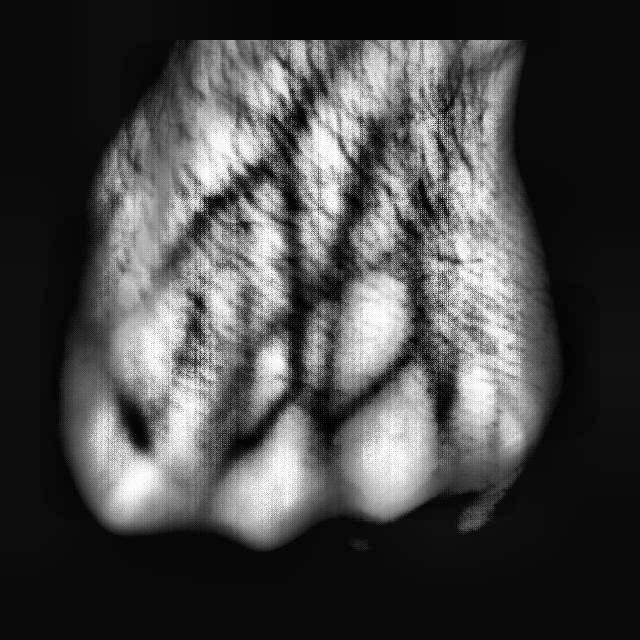Vein: (171, 78, 337, 245)
